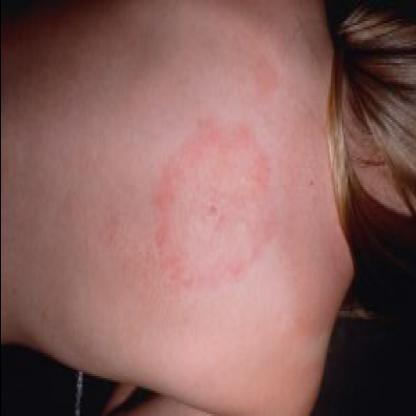Tick: (148, 105, 286, 303)
